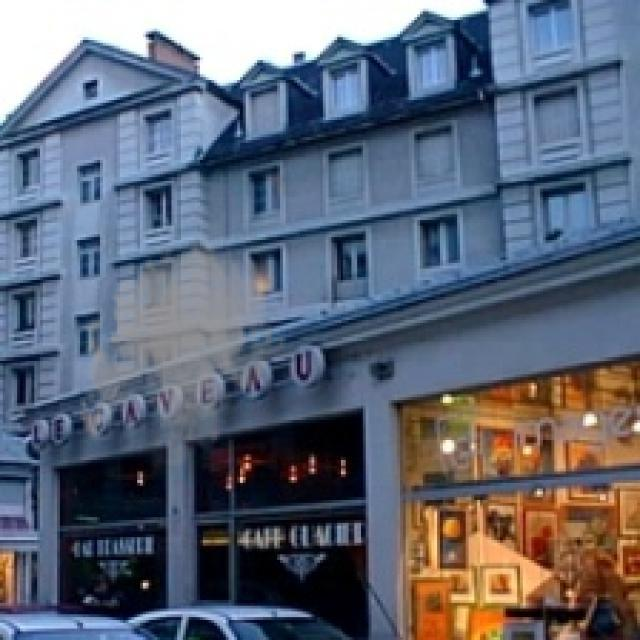Smoke: (74, 232, 289, 474)
